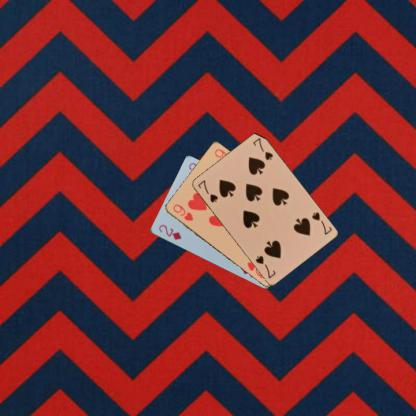2d: (156, 222, 183, 241)
7s: (309, 209, 334, 236), (195, 178, 219, 204)
9h: (170, 202, 194, 222)
